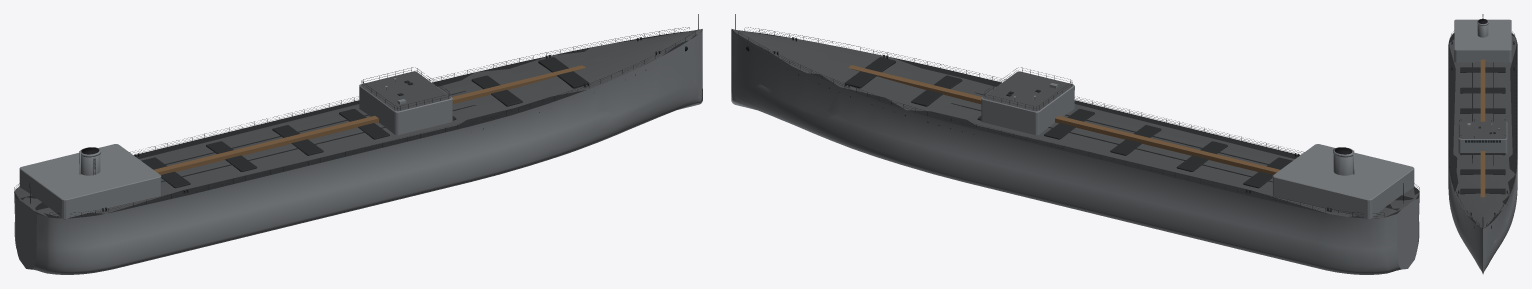
File: petrolero_lod.glb
The picture shows the model from 3 angles, left to right: view 1: azimuth 30°, elevation 25°; view 2: azimuth 150°, elevation 25°; view 3: azimuth 270°, elevation 25°; orthographic projection. The views are drawn at different scales.
Parts seen in each view (by area): view 1: petrolero_lod; view 2: petrolero_lod; view 3: petrolero_lod.
Part boxes in pixels (<box>): petrolero_lod: <box>14,14,702,274</box>; petrolero_lod: <box>731,14,1419,274</box>; petrolero_lod: <box>1448,14,1517,274</box>.
Bounding box in the file's own units: 163 × 24.11 × 22.81.
